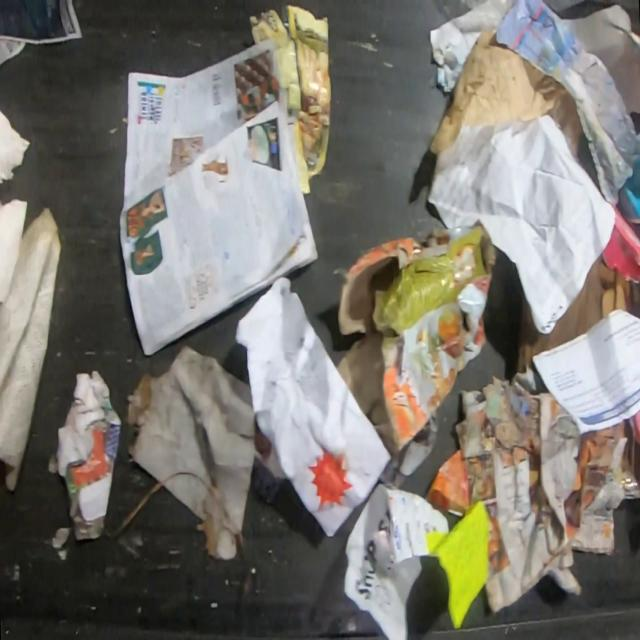cardboard: (332, 223, 499, 456), (517, 253, 640, 371), (602, 206, 640, 286)
